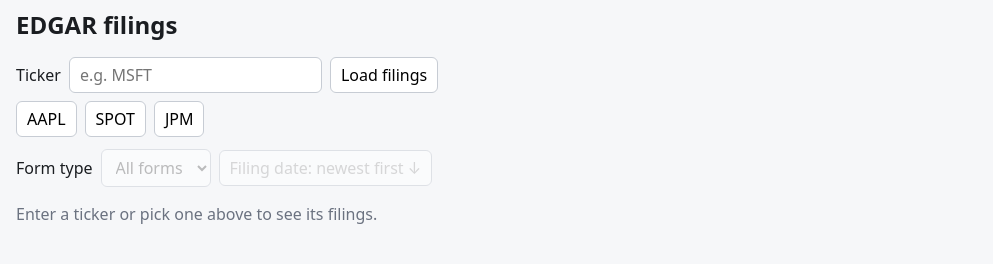
Test: FilingsPage › renders a friendly message for a 404, not a crash
Type "xyz" into the field labelled "Ticker" at (195, 75), box [69,57,322,93]
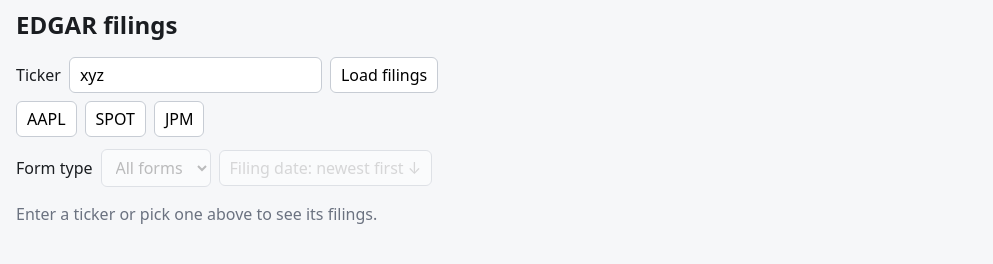
Submit the form labelled "Ticker", box [16,57,438,93]
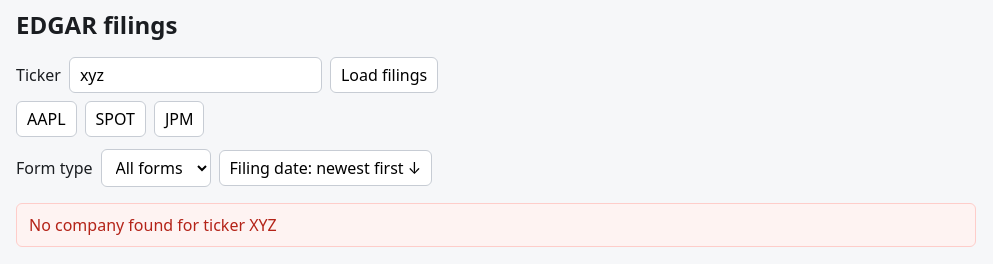
Check: the message reads "No company found for ticker XYZ", box [29,214,277,236]
